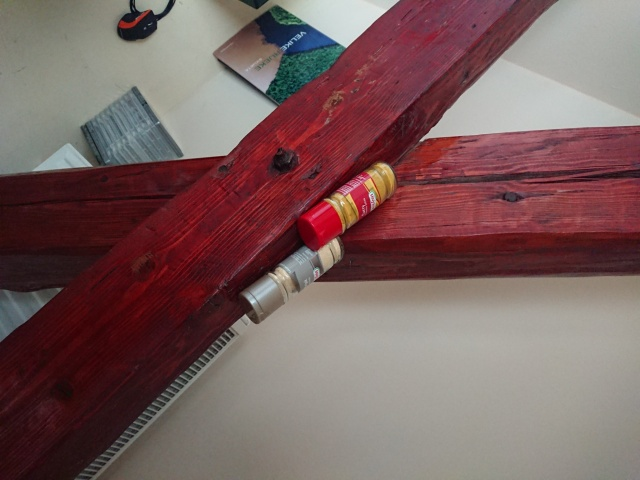Kotanyi Curry Spices Mix 70g: (295, 158, 401, 254)
Kotanyi Garlic Granules 70g: (236, 229, 347, 326)
